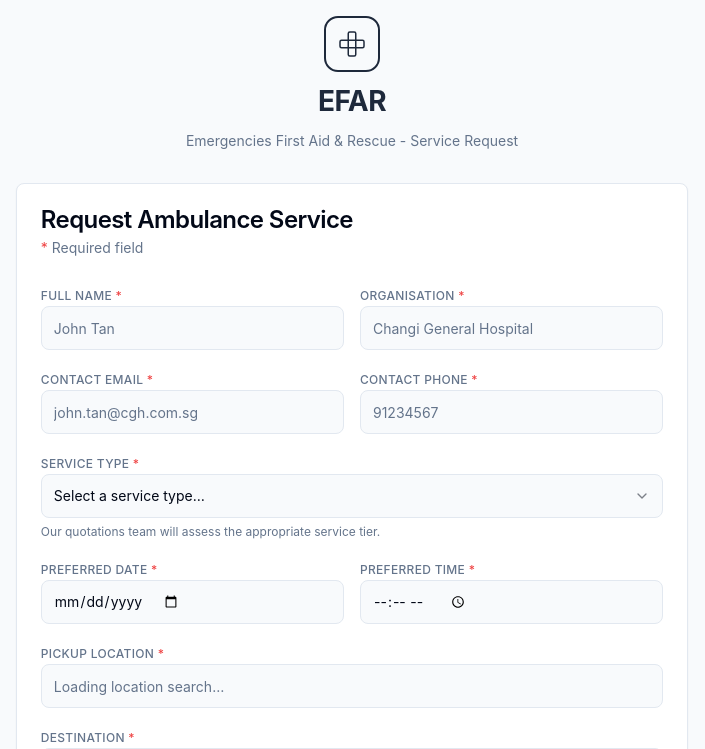
Test case: PublicIntakeFormPage › shows the full EAS and MTS names
What coordinates should you click on to do the following:
click the dropdown labelled "Select a service type…"
I would click on:
 (129, 496)
Its box is x1=41 y1=474 x2=663 y2=518.
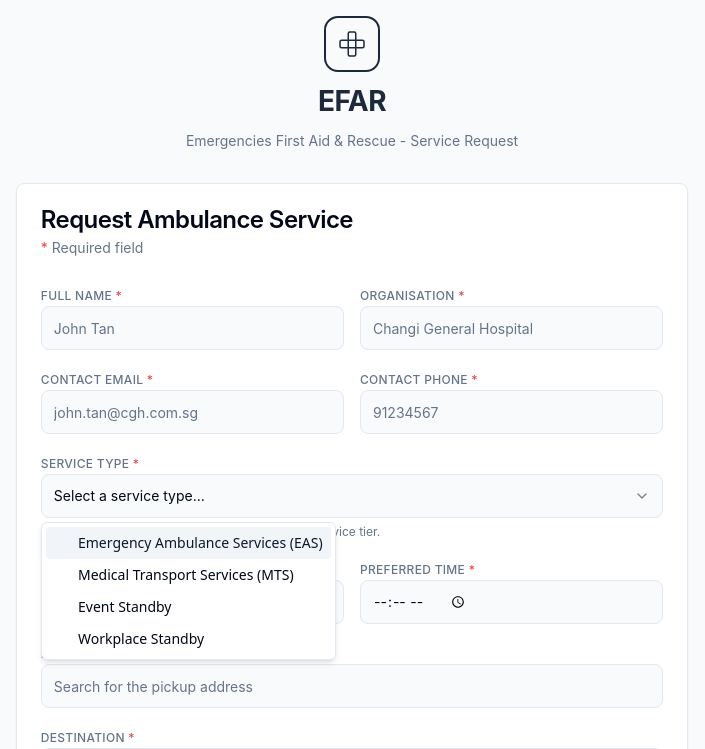
Now the text "Emergency Ambulance Services (EAS)" is shown, box x1=78 y1=533 x2=323 y2=553
Now the text "Medical Transport Services (MTS)" is shown, box x1=78 y1=565 x2=294 y2=585
